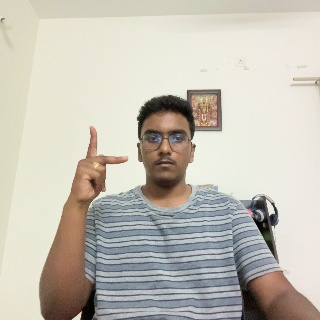Face: (143, 107, 191, 187)
Okay: (58, 125, 129, 219)
